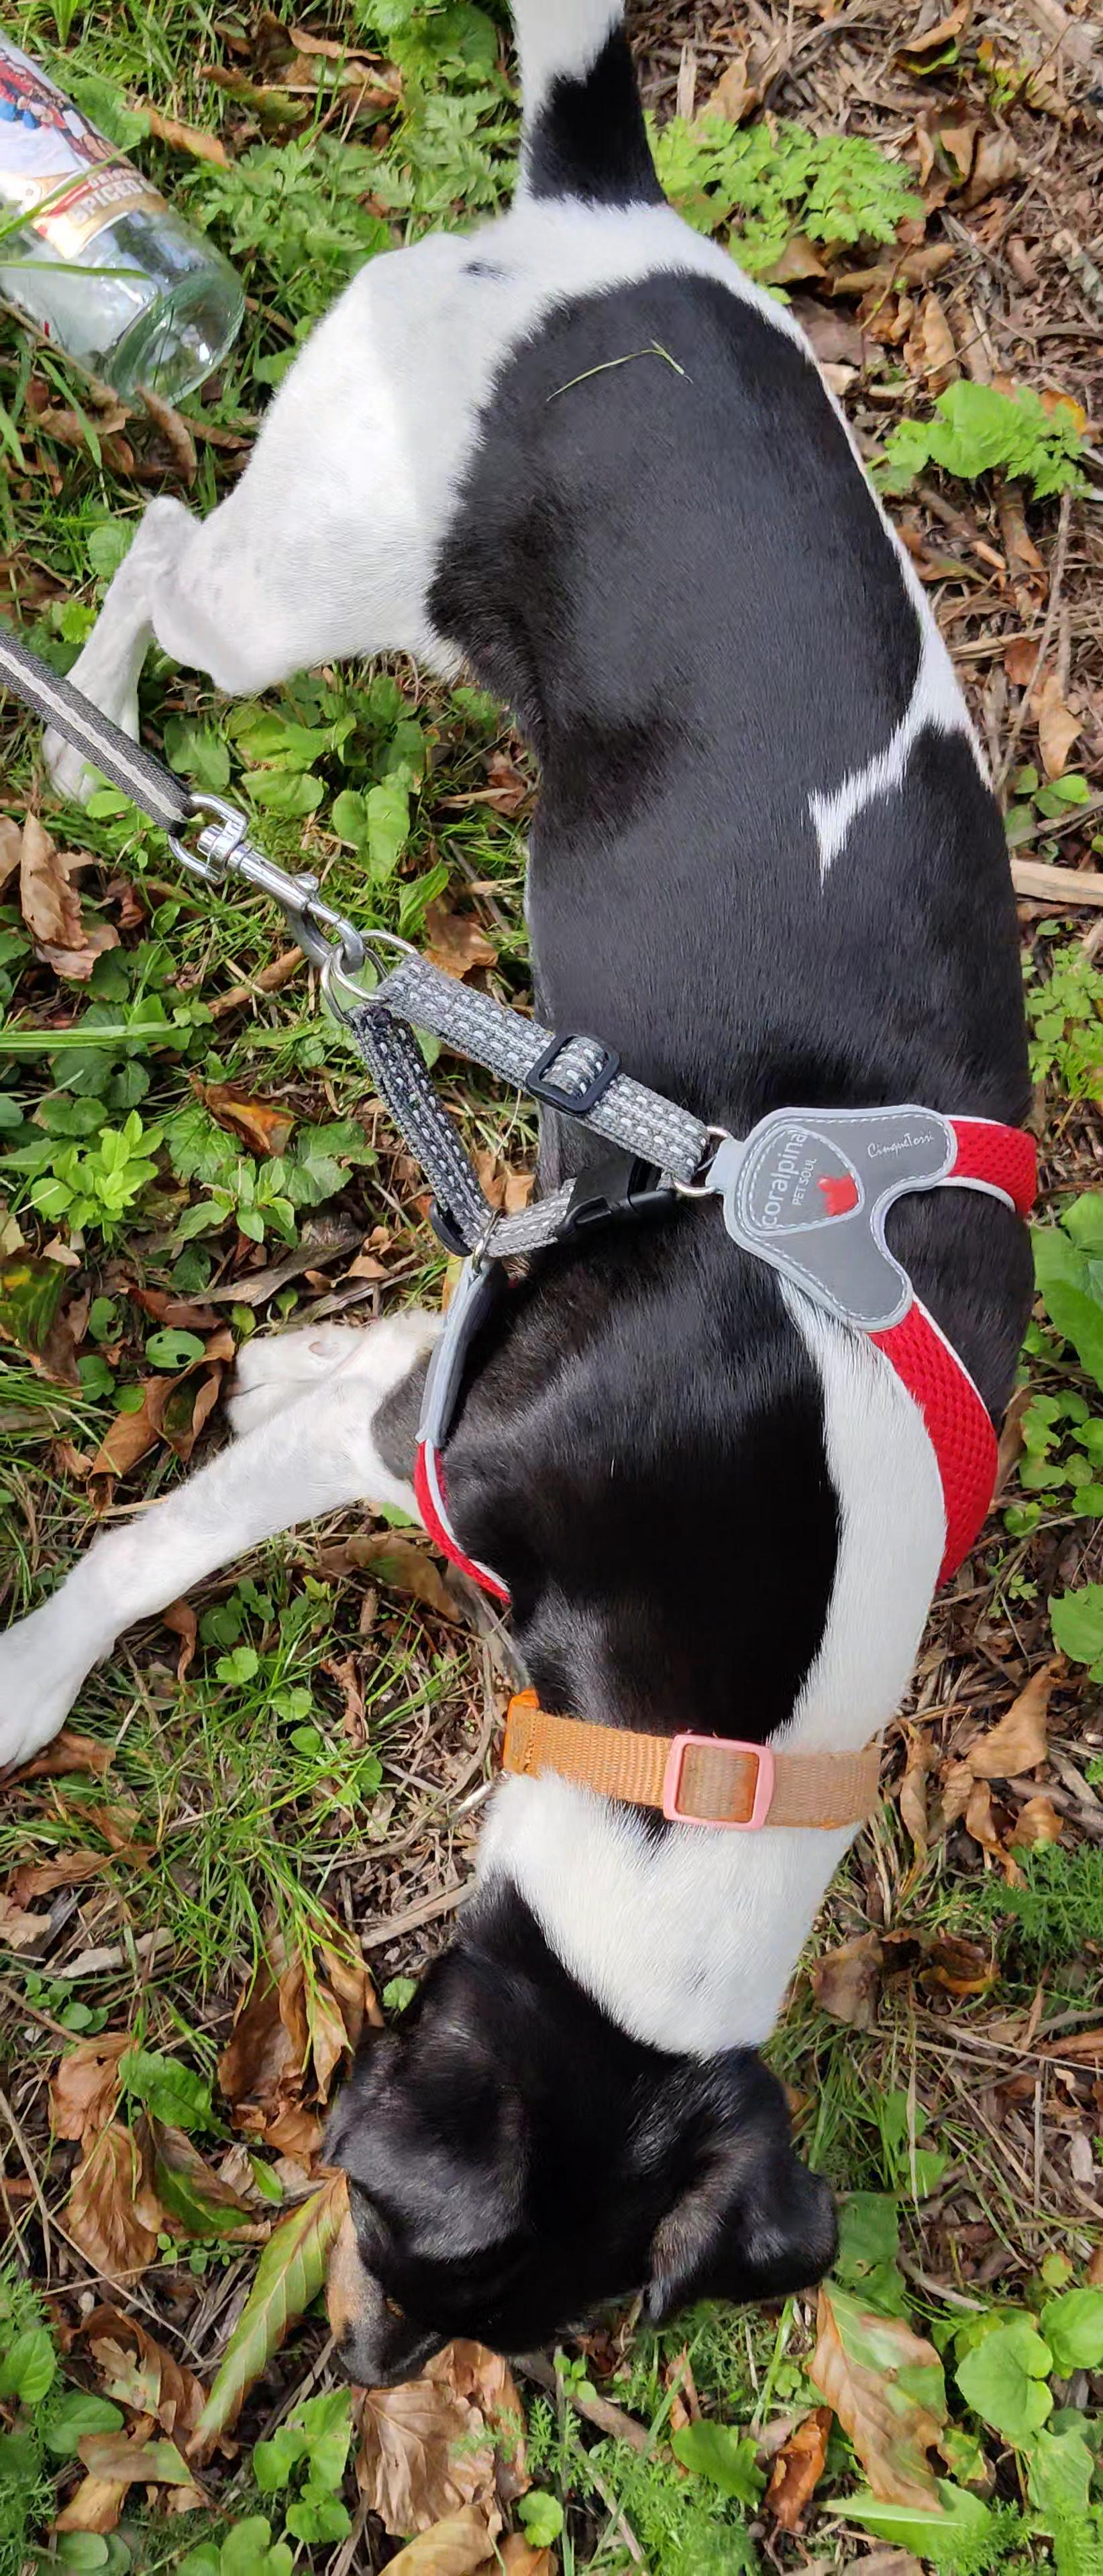Dog: (0, 0, 1047, 2407)
